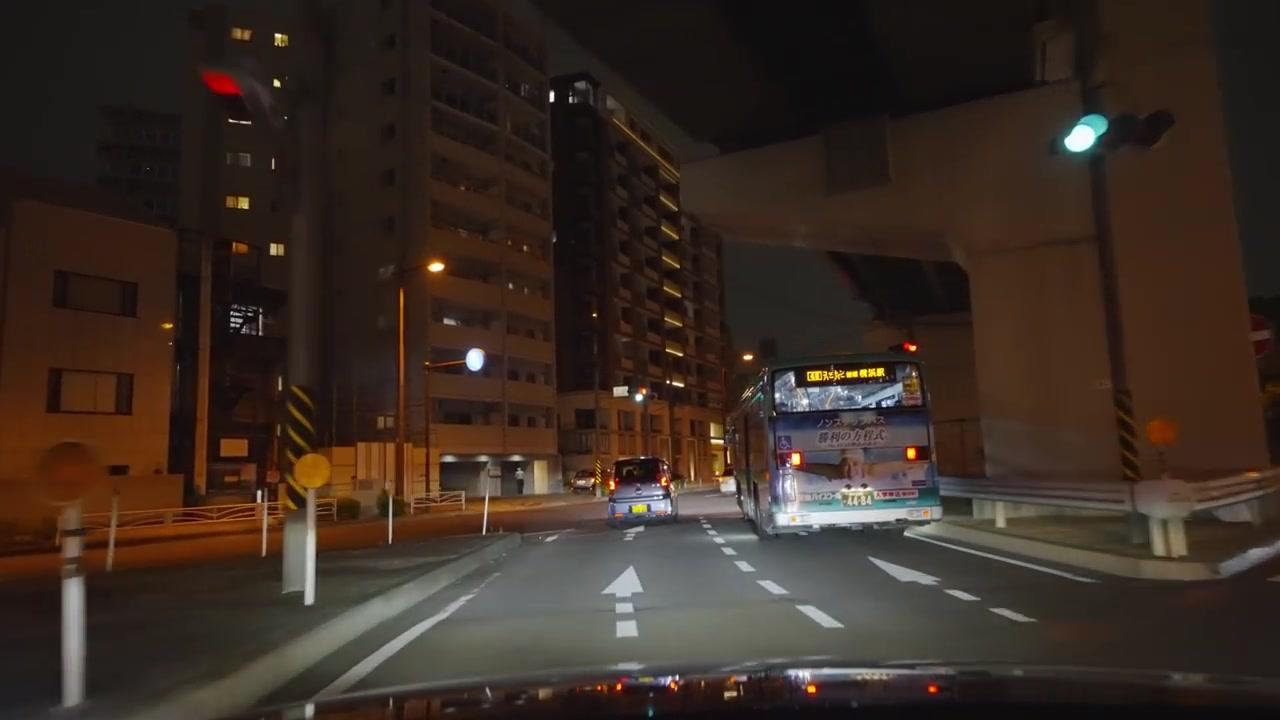bus: (726, 352, 941, 539)
car: (607, 455, 678, 530), (571, 471, 595, 495)
traffic light: (1054, 111, 1174, 159)
